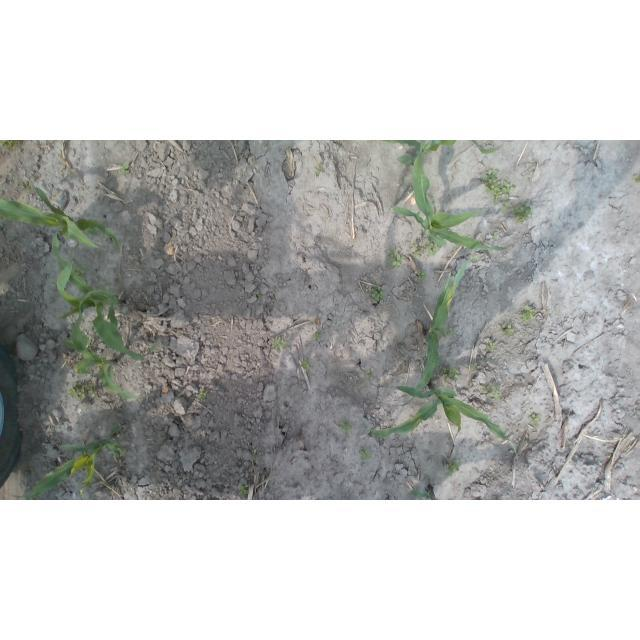Maize: (51, 231, 163, 361), (395, 254, 485, 406), (359, 385, 521, 465), (391, 152, 508, 253), (1, 186, 124, 254), (57, 307, 143, 402), (22, 424, 127, 499), (380, 141, 506, 164), (410, 485, 439, 500)
Weeds: (483, 171, 513, 199), (70, 382, 97, 400), (510, 204, 533, 225), (522, 305, 538, 323), (391, 253, 404, 270), (373, 287, 387, 301), (503, 322, 517, 336), (428, 242, 441, 256), (486, 385, 500, 398), (358, 449, 372, 462), (444, 369, 459, 381), (446, 462, 458, 474), (119, 162, 130, 175), (1, 141, 21, 148), (238, 485, 248, 498), (274, 340, 287, 349), (341, 421, 352, 431), (447, 327, 458, 336), (530, 413, 538, 423), (315, 165, 322, 176), (486, 342, 494, 351), (200, 391, 207, 400), (412, 244, 419, 251), (300, 361, 308, 367), (418, 272, 424, 280), (634, 173, 640, 181), (314, 333, 319, 340), (252, 453, 257, 460)
